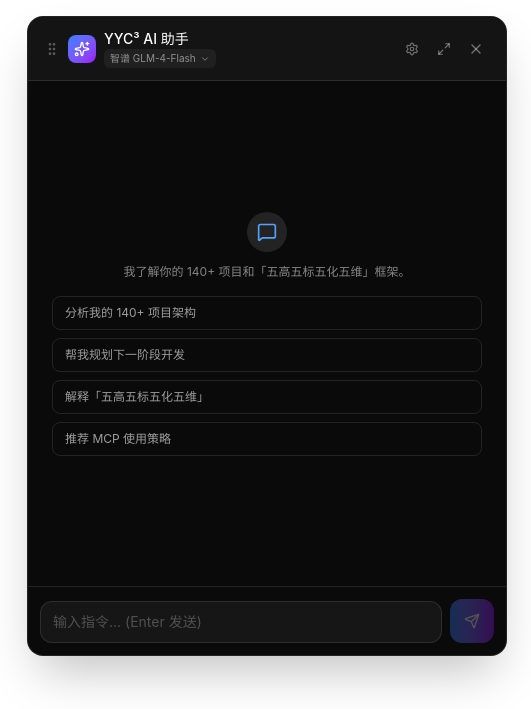
Test case: AiAssistant › sends message when clicking send button
Type "点击发送" into the text box with placeholder "输入指令... (Enter 发送)".
click(241, 622); type("点击发送")  # box left=40, top=601, right=442, bottom=643
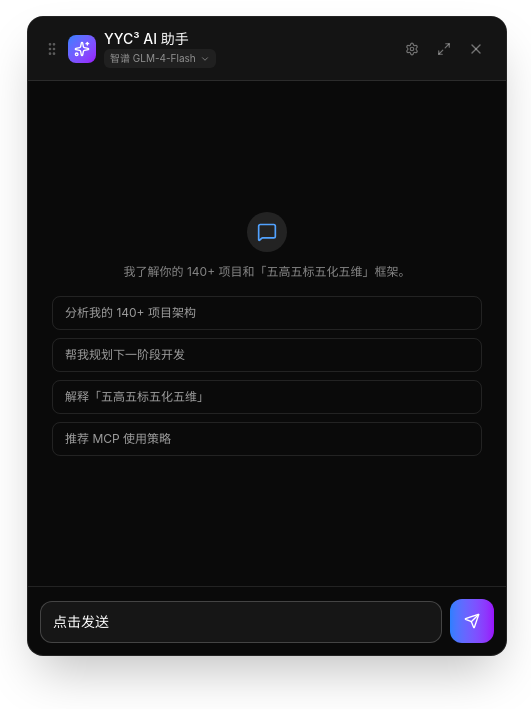
Click the 9th button.
click(472, 621)  # box left=450, top=599, right=494, bottom=643
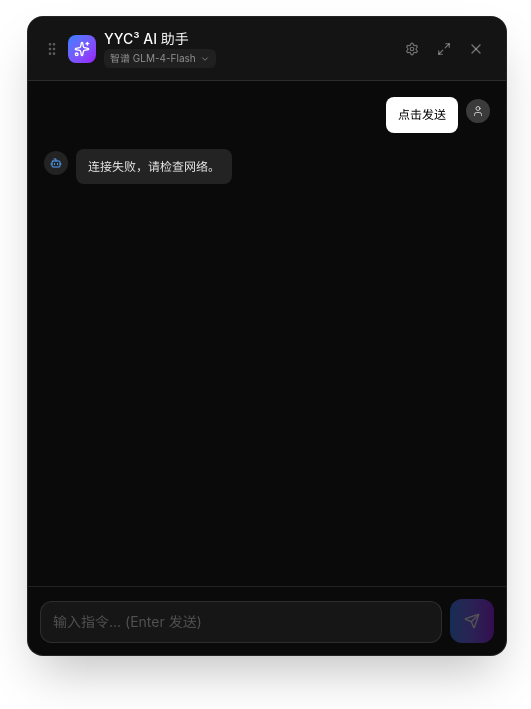
expect the text "点击发送" is shown: met, box left=398, top=105, right=446, bottom=124
